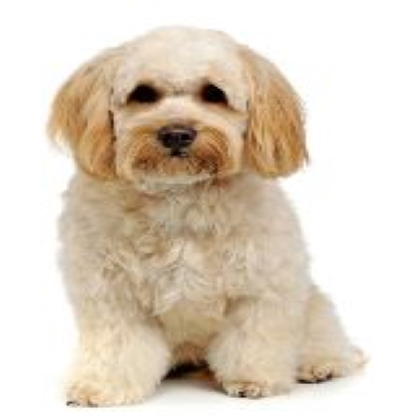maltese: (41, 21, 374, 408)
